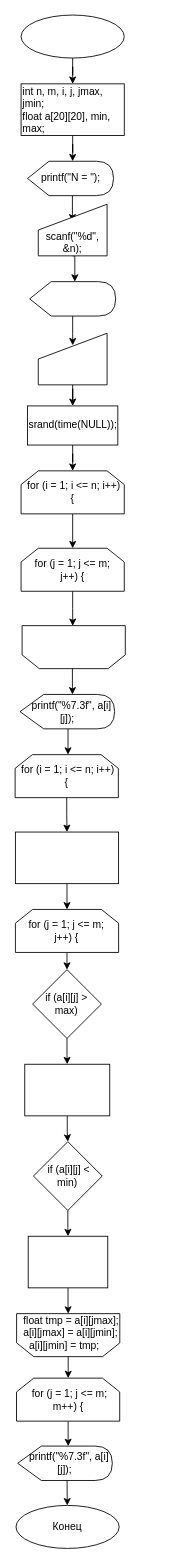
This 175x1563 diagram has some shape labels left out. Here are the shapes that lost their labels. From the top down, the centre of each, then its label:
(x=72, y=36): Начало
(x=72, y=298): printf("M = ");
(x=72, y=358): scanf("%d", &m);
(x=73, y=647): a[i][j] = (float) rand() * 10 / RAND_MAX - 5;
(x=67, y=857): max = a[i][1]; jmax = 1; min = a[i][1]; jmin = 1;
(x=67, y=1089): max = a[i][j]; jmax = j;
(x=67, y=1261): min = a[i][j]; jmin = j;
